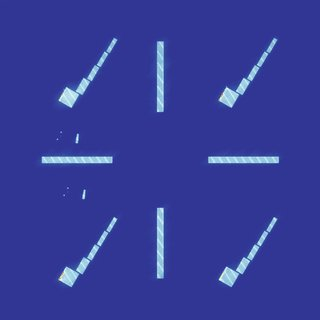overheated: (57, 269, 66, 282), (218, 93, 224, 102), (219, 270, 225, 279), (58, 93, 64, 101)
